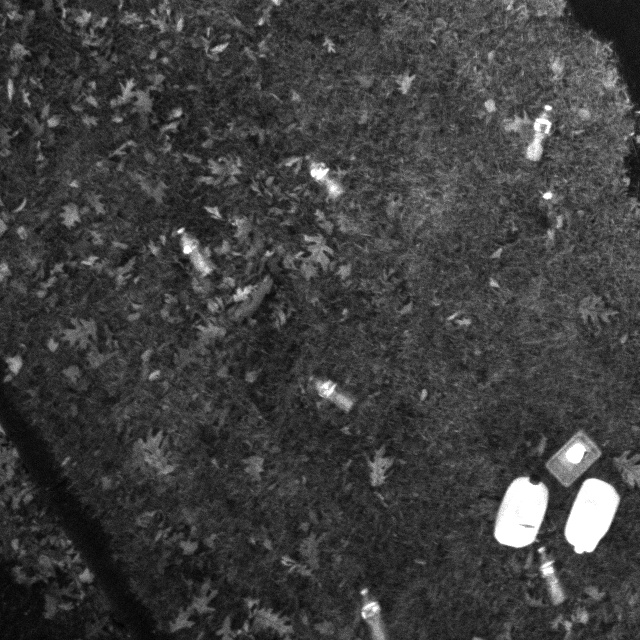bottle: (167, 221, 219, 287), (518, 100, 567, 169), (527, 542, 573, 612), (296, 155, 349, 205), (305, 372, 360, 419), (356, 583, 392, 640)
can: (481, 471, 556, 555), (560, 475, 626, 562)
container: (537, 430, 606, 489)
